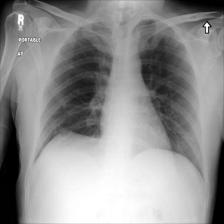normal: (33, 18, 206, 180)
